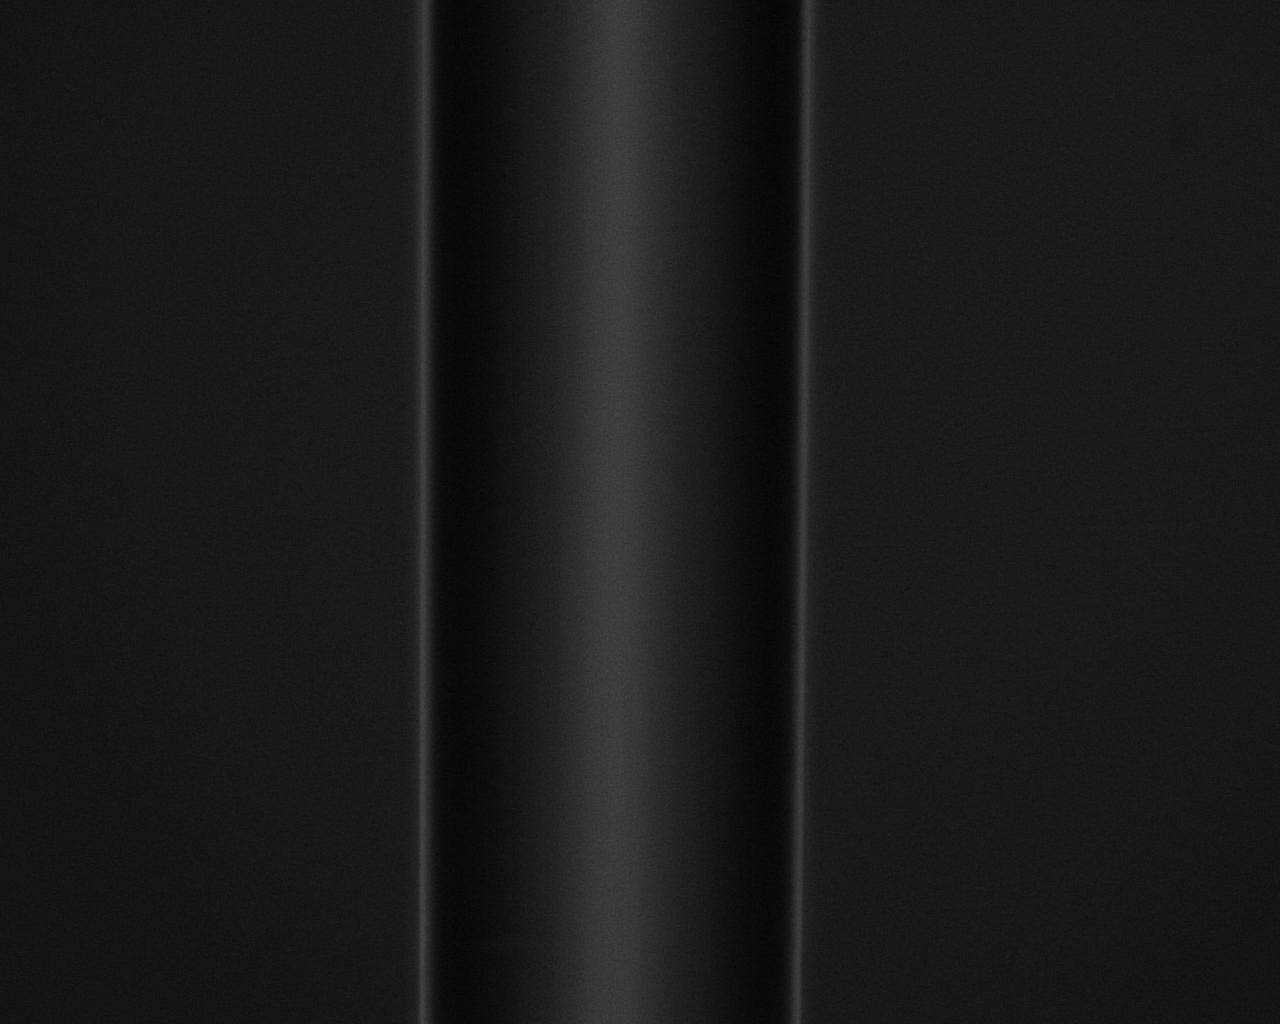fiber: (422, 0, 811, 1024)
